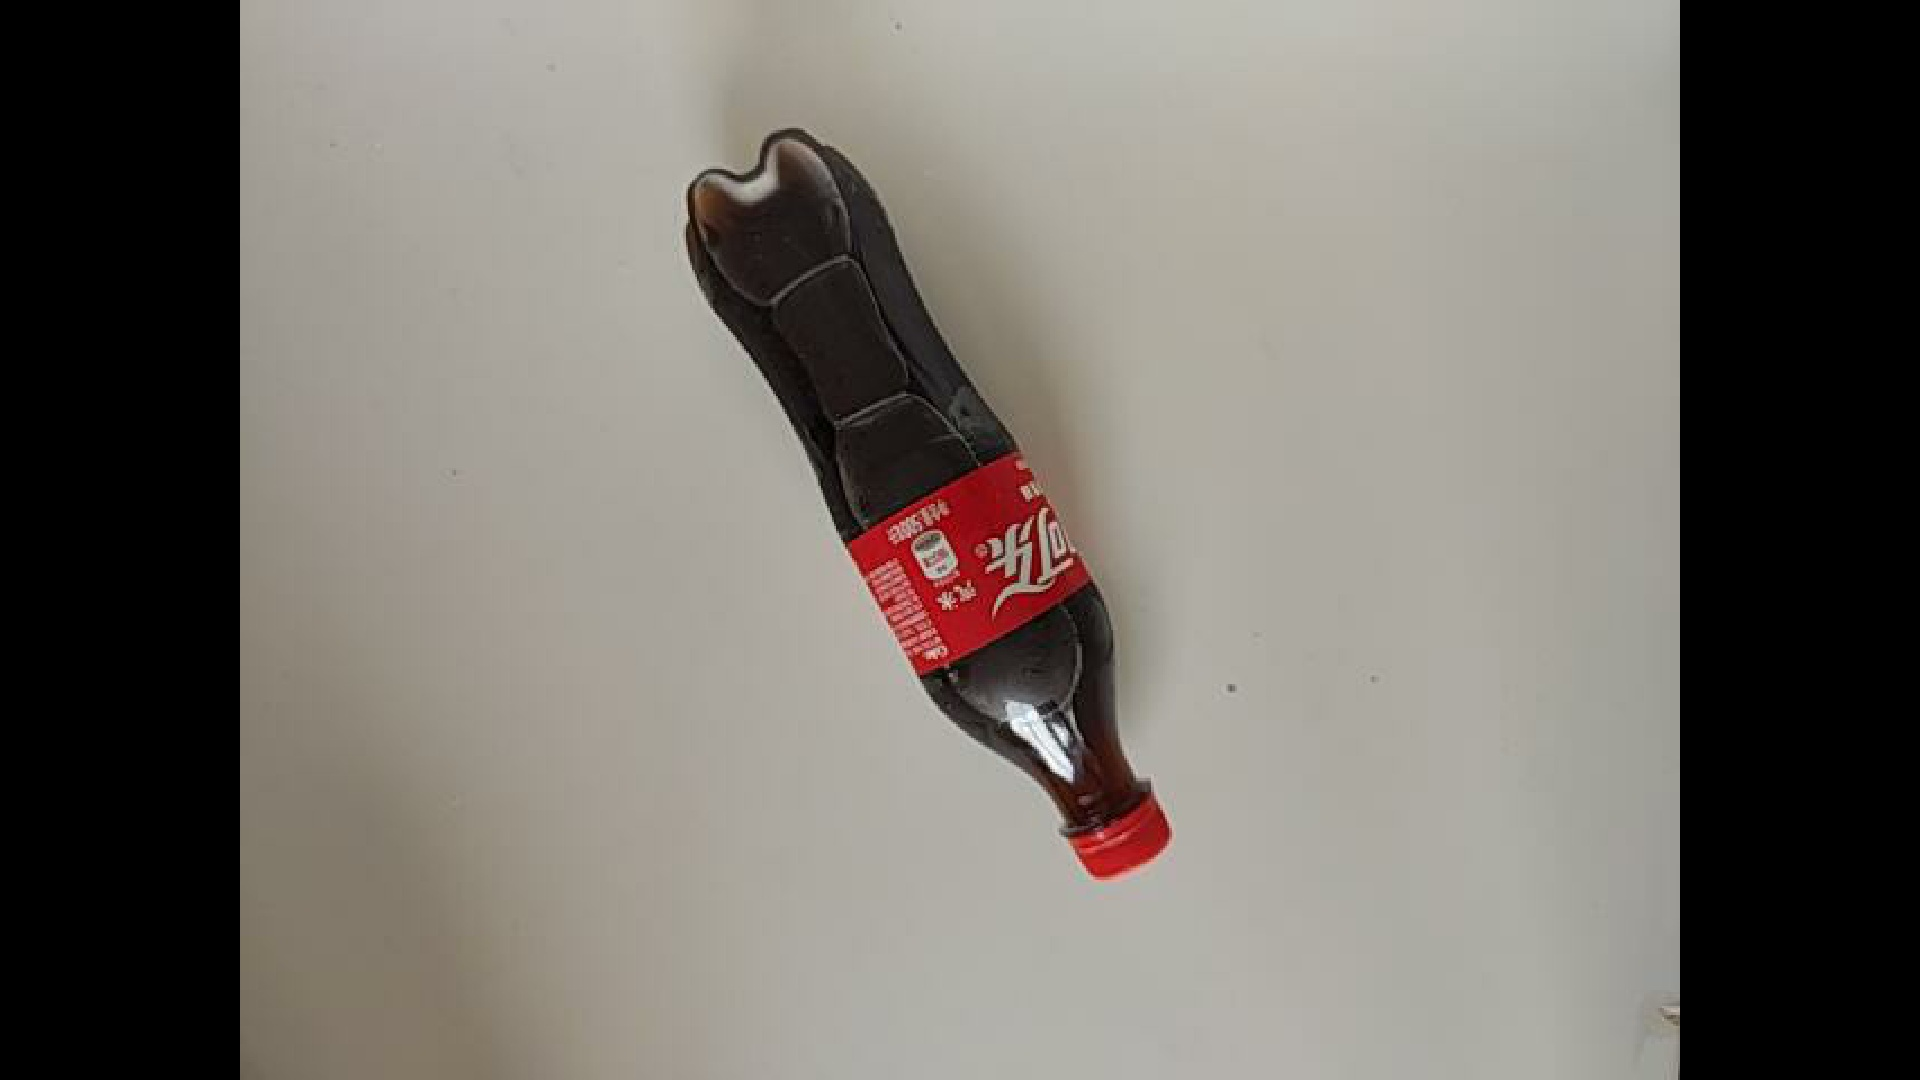cola: (649, 137, 1524, 923)
